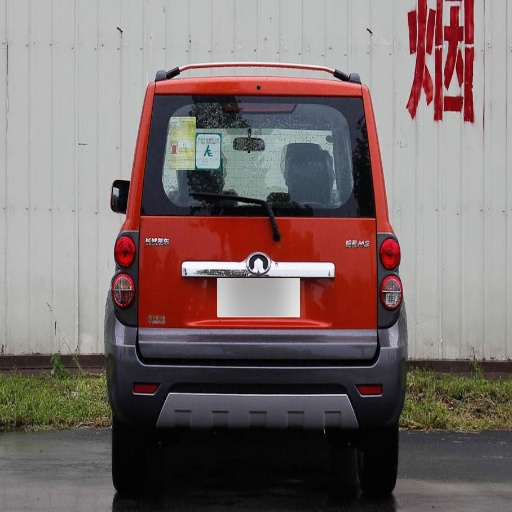back_bumper: (106, 317, 404, 426)
trunk: (138, 216, 374, 356)
